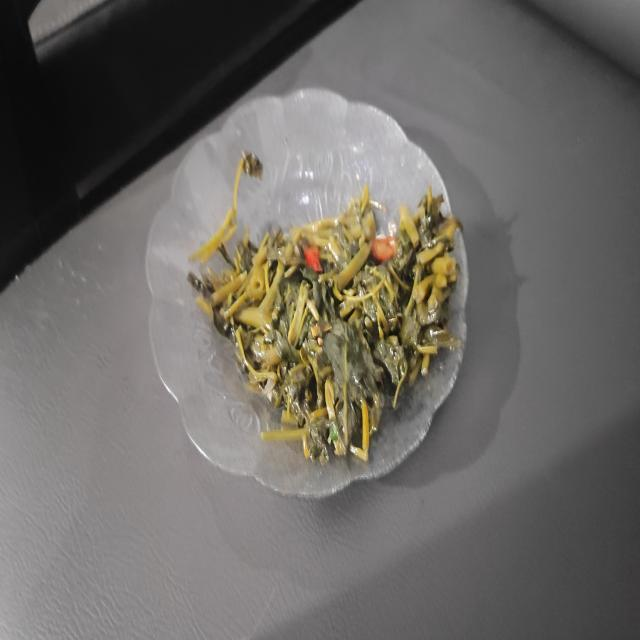tumis_kangkung: (197, 186, 462, 464)
